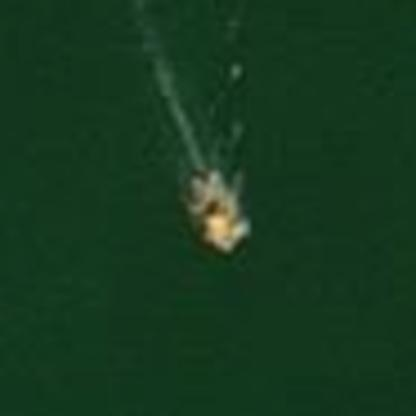ship: (175, 162, 258, 260)
